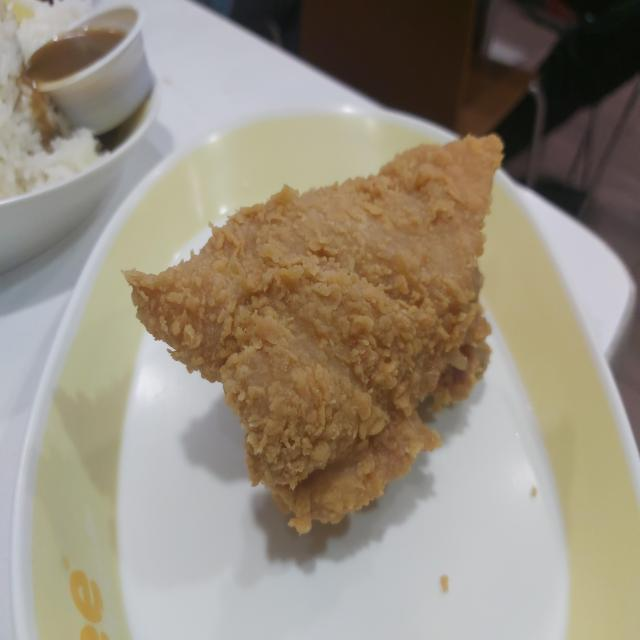Chicken -Fried Chicken-: (120, 130, 507, 540)
